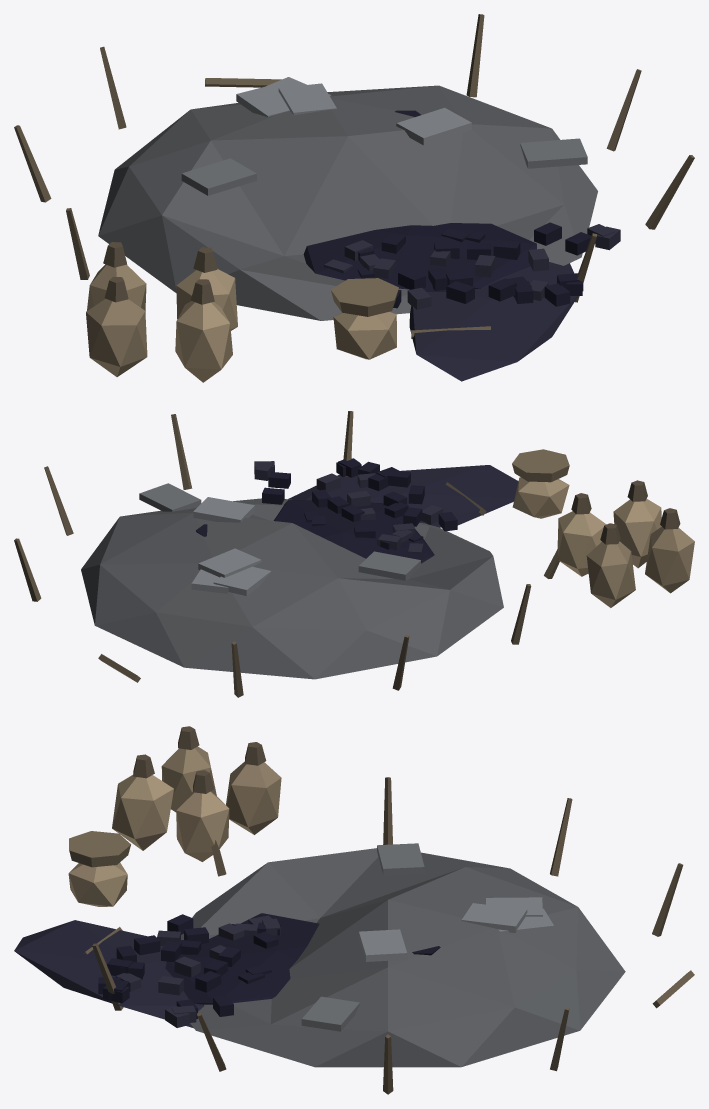
Rendered from clamp_spent_open.glb.
3 renders of one model, top to bottom at view 1: azimuth 30°, elevation 25°; view 2: azimuth 150°, elevation 25°; view 3: azimuth 270°, elevation 25°, orthographic. The views are drawn at different scales.
Visible parts, largest first — view 1: silverfog_d55, ink_l5, ink_d5, driftwood_d50, driftwood_d20, driftwood_d30, silverfog_d35, ink_d4, ink_l8, silverfog_d45, ink, driftwood_d25 (+2 smaller); view 2: silverfog_d55, ink_l5, driftwood_d30, driftwood_d20, driftwood_d50, ink_d5, silverfog_d35, ink_d4, ink_l8, silverfog_d45, ink, driftwood_d25 (+2 smaller); view 3: silverfog_d55, ink_l5, driftwood_d20, ink_d5, driftwood_d30, driftwood_d50, silverfog_d35, ink_d4, ink_l8, silverfog_d45, ink, driftwood_d25 (+2 smaller).
Part boxes in pixels (x1=…): silverfog_d55: x1=98, y1=85, x2=597, y2=320; ink_l5: x1=409, y1=262, x2=577, y2=381; ink_d5: x1=303, y1=223, x2=536, y2=291; driftwood_d50: x1=14, y1=14, x2=694, y2=338; driftwood_d20: x1=175, y1=269, x2=237, y2=382; driftwood_d30: x1=86, y1=264, x2=147, y2=376; silverfog_d35: x1=236, y1=77, x2=471, y2=145; ink_d4: x1=381, y1=222, x2=591, y2=303; ink_l8: x1=324, y1=224, x2=620, y2=309; silverfog_d45: x1=181, y1=138, x2=587, y2=195; ink: x1=357, y1=228, x2=582, y2=308; driftwood_d25: x1=333, y1=312, x2=396, y2=359; silverfog_d55: x1=81, y1=498, x2=503, y2=679; ink_l5: x1=288, y1=465, x2=518, y2=527; driftwood_d30: x1=586, y1=527, x2=694, y2=607; driftwood_d20: x1=557, y1=499, x2=661, y2=576; driftwood_d50: x1=14, y1=411, x2=559, y2=697; ink_d5: x1=273, y1=500, x2=434, y2=563; silverfog_d35: x1=191, y1=497, x2=271, y2=595; ink_d4: x1=262, y1=459, x2=424, y2=538; ink_l8: x1=254, y1=461, x2=442, y2=554; silverfog_d45: x1=139, y1=483, x2=420, y2=580; ink: x1=312, y1=458, x2=457, y2=549; driftwood_d25: x1=512, y1=477, x2=569, y2=518; silverfog_d55: x1=181, y1=848, x2=625, y2=1067; ink_l5: x1=14, y1=920, x2=204, y2=1028; driftwood_d20: x1=112, y1=775, x2=229, y2=861; ink_d5: x1=165, y1=913, x2=319, y2=1004; driftwood_d30: x1=161, y1=746, x2=281, y2=834; driftwood_d50: x1=83, y1=777, x2=694, y2=1094; silverfog_d35: x1=359, y1=897, x2=554, y2=961; ink_d4: x1=107, y1=931, x2=278, y2=1018; ink_l8: x1=115, y1=915, x2=280, y2=1027; silverfog_d45: x1=301, y1=843, x2=424, y2=1031; ink: x1=98, y1=914, x2=280, y2=1003; driftwood_d25: x1=68, y1=862, x2=127, y2=906.
Size of the model in its own units: 4.75 by 0.7441 by 4.59.
